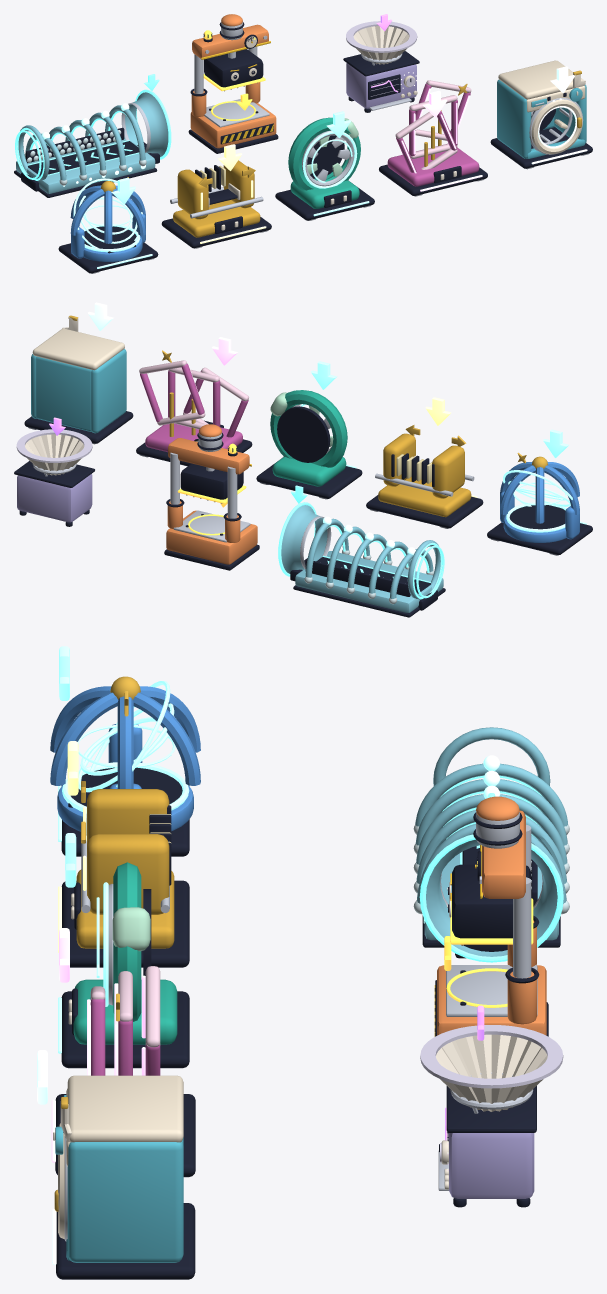
The model's file is machines.glb.
The picture shows the model from 3 angles, top to bottom: view 1: azimuth 30°, elevation 25°; view 2: azimuth 150°, elevation 25°; view 3: azimuth 270°, elevation 25°; orthographic projection. The views are drawn at different scales.
Parts seen in each view (by area): view 1: ECHO_Static, CRUSHER_Static, SWIRL_Static, WASHER_Cabinet, SPACE_Static, WIDE_Static, FILTER_Static, WARP_Static, CRUSHER_Ram, FILTER_Cone, WIDE_Left, WASHER_Static (+14 smaller); view 2: ECHO_Static, WASHER_Cabinet, CRUSHER_Static, SWIRL_Static, SPACE_Static, FILTER_Static, WIDE_Static, WARP_Static, CRUSHER_Ram, FILTER_Cone, WARP_Portal3, WIDE_Left (+6 smaller); view 3: WASHER_Cabinet, ECHO_Static, CRUSHER_Static, SPACE_Static, SWIRL_Static, FILTER_Static, WIDE_Static, FILTER_Cone, WIDE_Right, CRUSHER_Ram, WASHER_Static, FILTER_Rim (+5 smaller).
Boxes of the visible parts, box(x1,y1,x2,y2) form: ECHO_Static: box(14, 89, 171, 197); CRUSHER_Static: box(188, 14, 278, 153); SWIRL_Static: box(275, 117, 374, 220); WASHER_Cabinet: box(497, 60, 586, 158); SPACE_Static: box(58, 177, 158, 273); WIDE_Static: box(161, 186, 271, 248); FILTER_Static: box(343, 45, 419, 112); WARP_Static: box(379, 84, 487, 196); CRUSHER_Ram: box(203, 49, 265, 91); FILTER_Cone: box(353, 26, 409, 64); WIDE_Left: box(177, 169, 212, 219); WASHER_Static: box(490, 127, 592, 169); ECHO_Static: box(278, 502, 445, 617); WASHER_Cabinet: box(31, 328, 126, 433); CRUSHER_Static: box(164, 424, 259, 570); SWIRL_Static: box(256, 390, 362, 499); SPACE_Static: box(487, 452, 592, 555); FILTER_Static: box(14, 454, 94, 526); WIDE_Static: box(366, 473, 483, 528); WARP_Static: box(136, 350, 252, 466); CRUSHER_Ram: box(177, 463, 246, 503); FILTER_Cone: box(25, 434, 84, 475); WARP_Portal3: box(139, 360, 205, 425); WIDE_Left: box(432, 435, 466, 498); WASHER_Cabinet: box(63, 1075, 183, 1262); ECHO_Static: box(413, 727, 569, 962); CRUSHER_Static: box(434, 796, 548, 1036); SPACE_Static: box(50, 676, 200, 856); SWIRL_Static: box(58, 862, 189, 1068); FILTER_Static: box(438, 1072, 536, 1207); WIDE_Static: box(58, 836, 189, 967); FILTER_Cone: box(436, 1034, 547, 1111); WIDE_Right: box(81, 821, 169, 914); CRUSHER_Ram: box(450, 864, 533, 945); WASHER_Static: box(52, 1203, 195, 1279); FILTER_Rim: box(420, 1025, 563, 1088).
Size of the model in its own units: 19.13 by 4.36 by 8.73.
